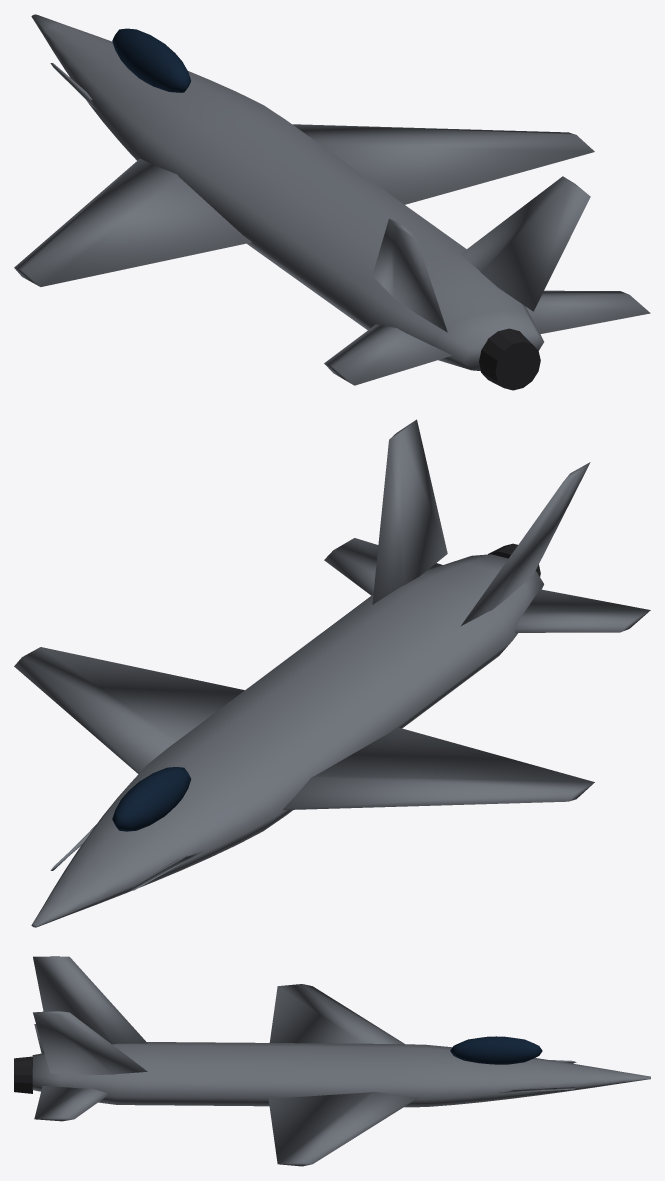
3 renders of one model, top to bottom at view 1: azimuth 30°, elevation 25°; view 2: azimuth 150°, elevation 25°; view 3: azimuth 270°, elevation 25°, orthographic. The views are drawn at different scales.
Visible parts, largest first — view 1: Body, Canopy, Detail; view 2: Body, Canopy; view 3: Body, Canopy, Detail.
Part boxes in pixels (x1,y1,x2,y2): Body: [14, 14, 650, 385]; Canopy: [112, 28, 190, 92]; Detail: [479, 328, 540, 390]; Body: [14, 419, 650, 927]; Canopy: [112, 767, 191, 831]; Body: [32, 956, 650, 1166]; Canopy: [450, 1036, 542, 1064]; Detail: [14, 1056, 32, 1093].
Bounding box in the file's own units: 10.7 × 3.15 × 16.17.
